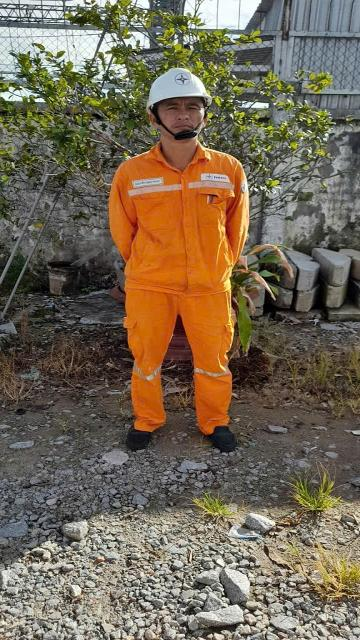helmet: (136, 47, 225, 117)
shoes: (118, 418, 158, 452), (202, 422, 236, 452)
